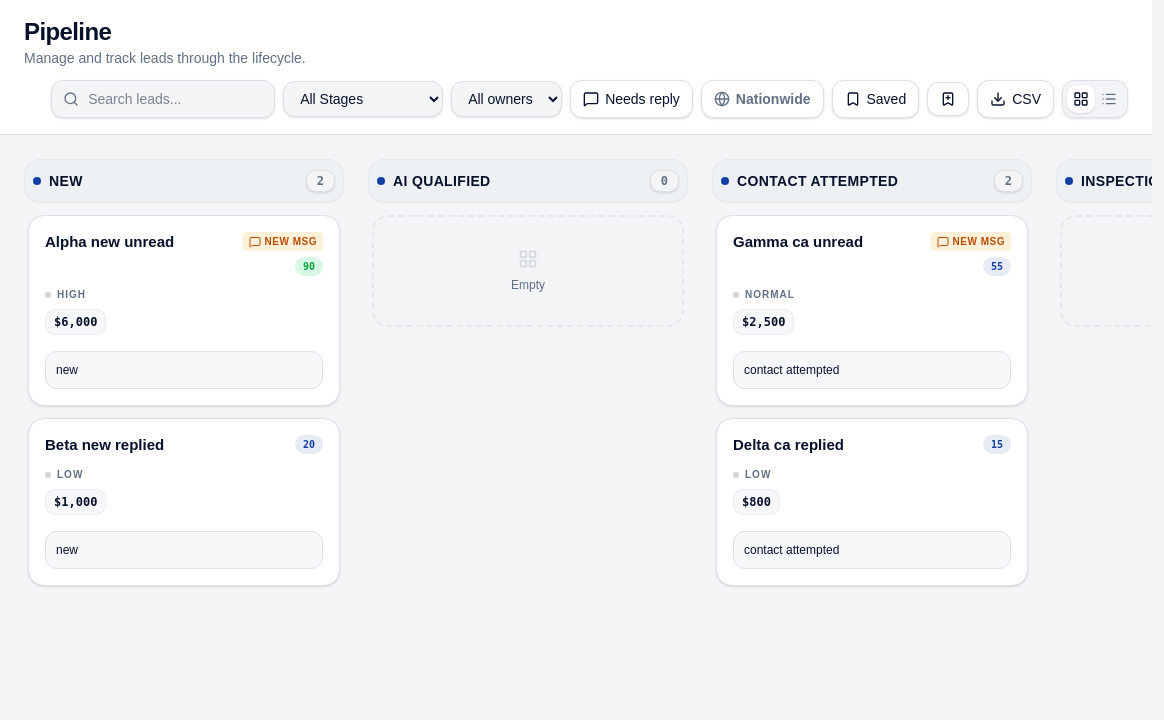
Pipeline "Needs reply" filter › stacked stage + needs-reply filters › restores the needs-reply superset when the stage filter is cleared
This screenshot has width=1164, height=720.
Expected: the link "Alpha new unread" is shown, [45,232,174,253]
Enable needs-reply first → alpha + gamma visible, beta + delta hidden.
Click the button with test id "needs-reply-filter" at (631, 99), box [570,80,693,118]
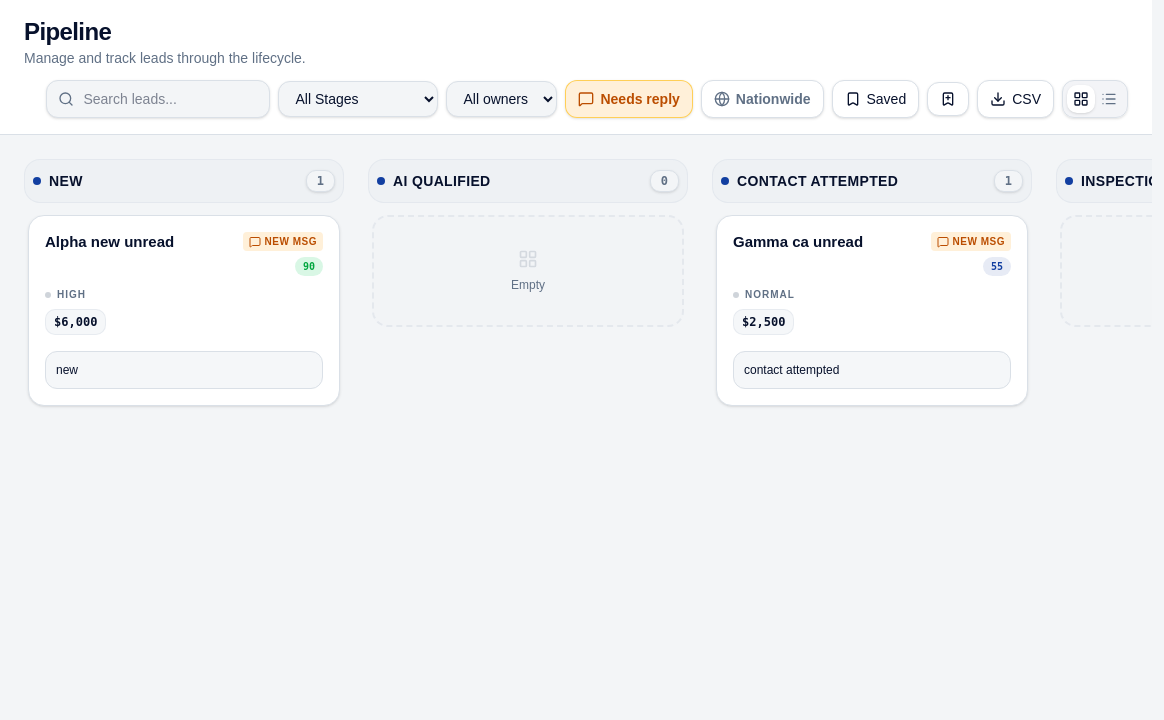
Expected: the link "Alpha new unread" is shown, [45,232,174,253]
Expected: no links "Beta new replied" are shown
Expected: no links "Delta ca replied" are shown
Select "new" in the dropdown below "Pipeline" at (358, 99), box [278,81,438,117]
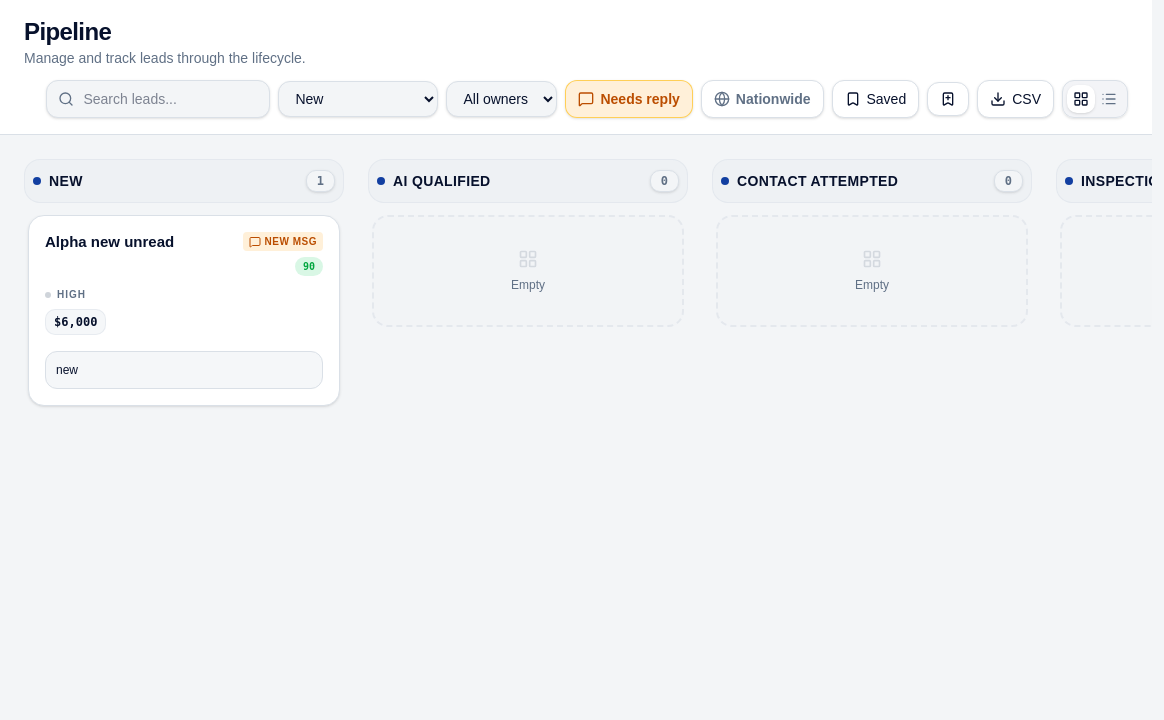
Expected: the link "Alpha new unread" is shown, [45,232,174,253]
Expected: no links "Gamma ca unread" are shown
Select "All stages" in the dropdown below "Pipeline" at (358, 99), box [278,81,438,117]
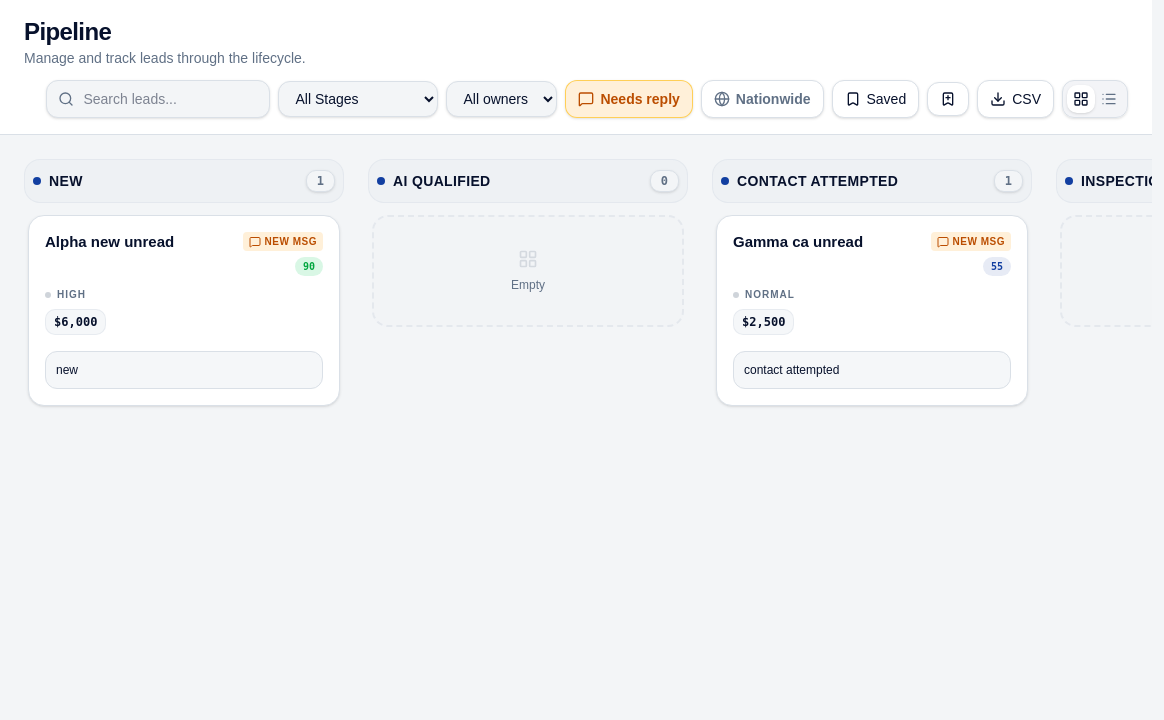
Expected: the link "Alpha new unread" is shown, [45,232,174,253]
Expected: the link "Gamma ca unread" is shown, [733,232,863,253]
